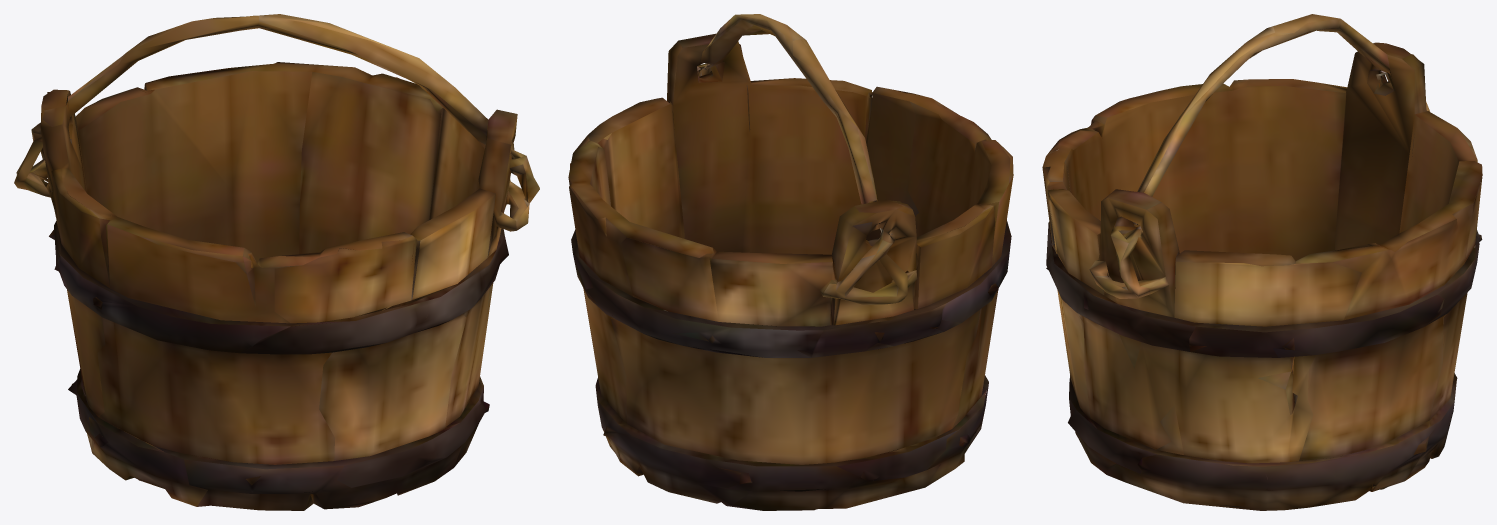
File: balde.movil.glb
The picture shows the model from 3 angles, left to right: view 1: azimuth 30°, elevation 25°; view 2: azimuth 150°, elevation 25°; view 3: azimuth 270°, elevation 25°; orthographic projection. The views are drawn at different scales.
Visible parts, largest first — view 1: geometry_0; view 2: geometry_0; view 3: geometry_0.
Part boxes in pixels (bbox=[...]): geometry_0: bbox=[14, 14, 539, 510]; geometry_0: bbox=[568, 14, 1013, 510]; geometry_0: bbox=[1042, 14, 1482, 510].
Size of the model in its own units: 0.32 by 0.3197 by 0.3187.
1 material, 1 textured.
